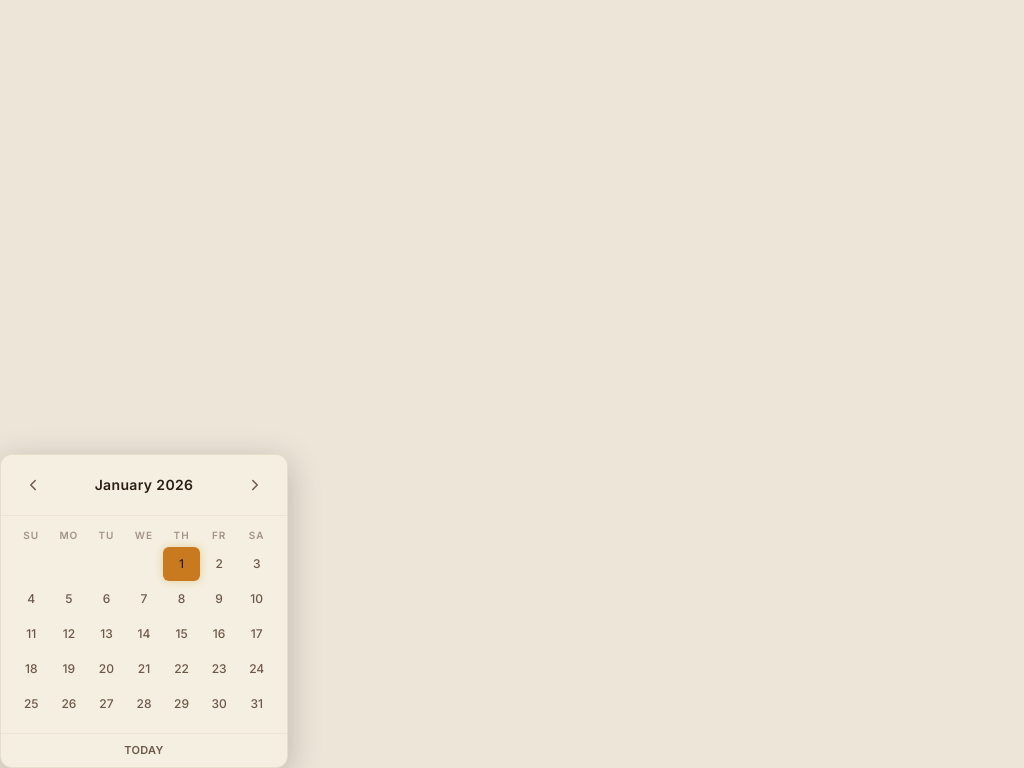
Test: CalendarPopup › wraps correctly from January to December when navigating backward
(page scrolled)
Click the button named "Previous month": (33, 485) [13,465,53,505]
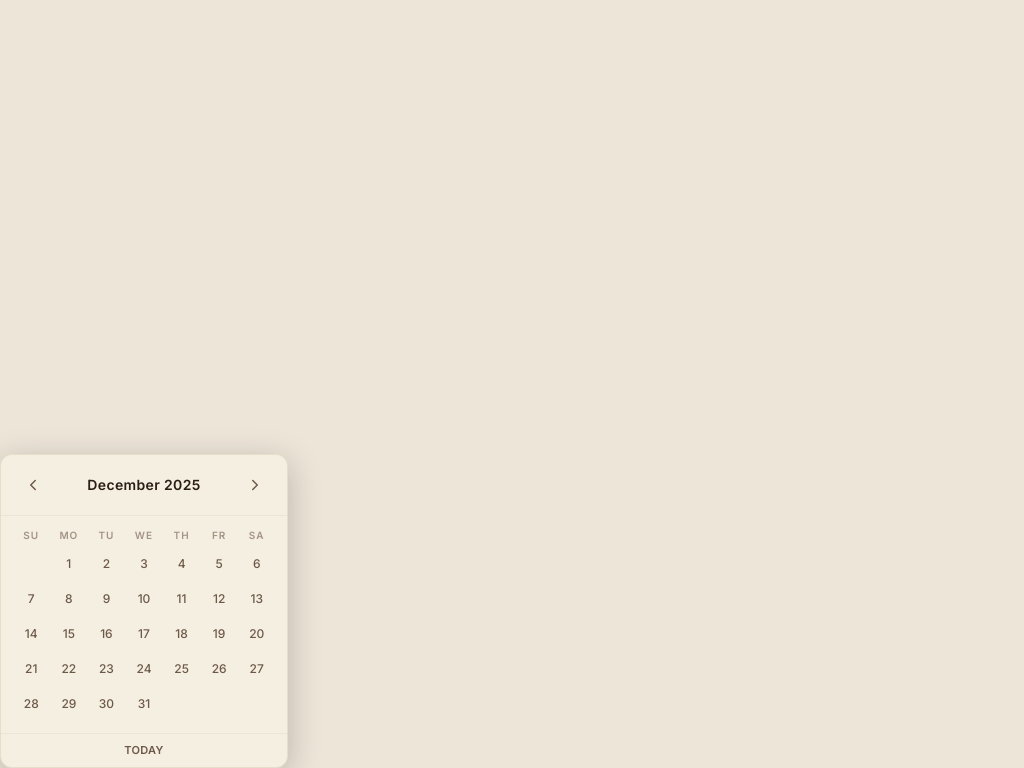
Result: the text "December 2025" is shown at [87,475,201,495]
